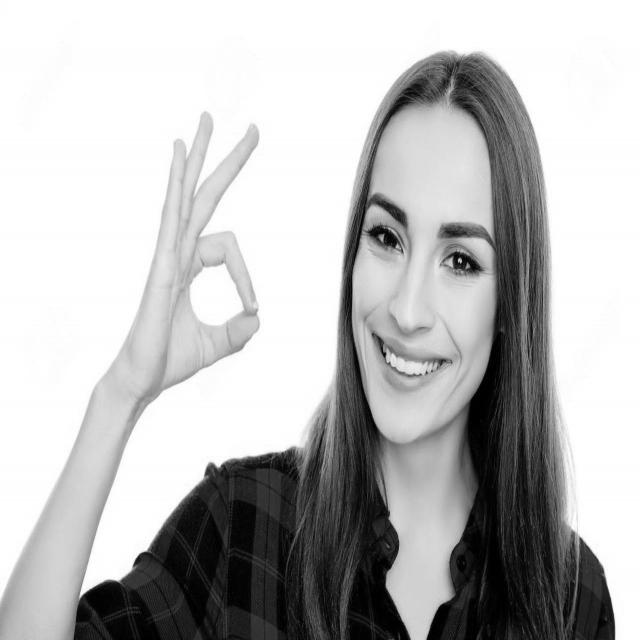perfect: (101, 105, 264, 411)
